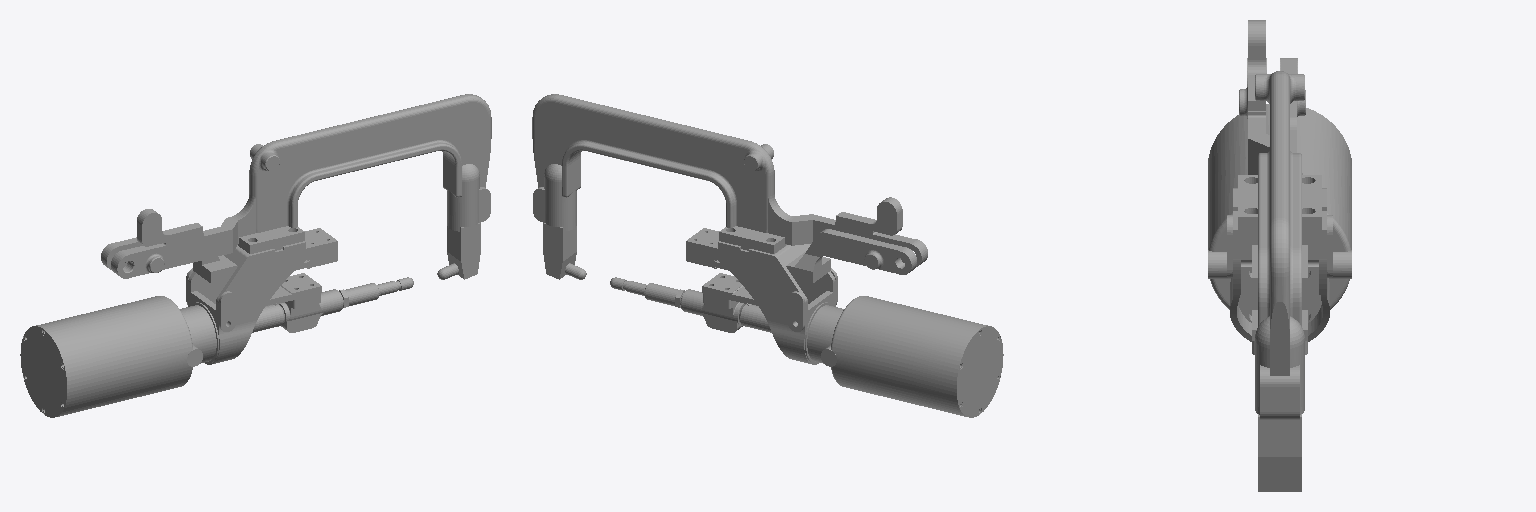
robot.urdf — robot:
<robot name="">
	<link name="base_link">
		<inertial>
			<origin rpy="0.00000 -0.00000 0.00000" xyz="0.00000 0.00000 0.00000" />
			<mass value="1.00000" />
			<inertia ixx="0.00999" ixy="0" ixz="0" iyy="0.01525" iyz="0" izz="0.01337" />
		</inertial>
		<visual>
			<origin rpy="0.00000 -0.00000 0.00000" xyz="0.00000 0.00000 0.00000" />
			<geometry>
				<mesh filename="rlbotics/envs/models/robots/kuka/kr10/meshes/kr10r1100sixx/visual/base_link.stl" scale="1.00000 1.00000 1.00000" />
			</geometry>
			<material name="0">
				<color rgba="0.05490 0.05490 0.06275 1.00000" />
			</material>
		</visual>
		<collision>
			<origin rpy="0.00000 -0.00000 0.00000" xyz="0.00000 0.00000 0.00000" />
			<geometry>
				<mesh filename="rlbotics/envs/models/robots/kuka/kr10/meshes/kr10r1100sixx/collision/base_link.stl" scale="1.00000 1.00000 1.00000" />
			</geometry>
		</collision>
	</link>
	<link name="link_1">
		<inertial>
			<origin rpy="0.00000 -0.00000 0.00000" xyz="0.00000 0.00000 0.00000" />
			<mass value="1.00000" />
			<inertia ixx="0.01294" ixy="0" ixz="0" iyy="0.01147" iyz="0" izz="0.01178" />
		</inertial>
		<visual>
			<origin rpy="0.00000 -0.00000 0.00000" xyz="0.00000 0.00000 0.00000" />
			<geometry>
				<mesh filename="rlbotics/envs/models/robots/kuka/kr10/meshes/kr10r1100sixx/visual/link_1.stl" scale="1.00000 1.00000 1.00000" />
			</geometry>
			<material name="1">
				<color rgba="0.96471 0.47059 0.15686 1.00000" />
			</material>
		</visual>
		<collision>
			<origin rpy="0.00000 -0.00000 0.00000" xyz="0.00000 0.00000 0.00000" />
			<geometry>
				<mesh filename="rlbotics/envs/models/robots/kuka/kr10/meshes/kr10r1100sixx/collision/link_1.stl" scale="1.00000 1.00000 1.00000" />
			</geometry>
		</collision>
	</link>
	<link name="link_2">
		<inertial>
			<origin rpy="0.00000 -0.00000 0.00000" xyz="0.00000 0.00000 0.00000" />
			<mass value="1.00000" />
			<inertia ixx="0.00832" ixy="0" ixz="0" iyy="0.04917" iyz="0" izz="0.05179" />
		</inertial>
		<visual>
			<origin rpy="0.00000 -0.00000 0.00000" xyz="0.00000 0.00000 0.00000" />
			<geometry>
				<mesh filename="rlbotics/envs/models/robots/kuka/kr10/meshes/kr10r1100sixx/visual/link_2.stl" scale="1.00000 1.00000 1.00000" />
			</geometry>
			<material name="2">
				<color rgba="0.96471 0.47059 0.15686 1.00000" />
			</material>
		</visual>
		<collision>
			<origin rpy="0.00000 -0.00000 0.00000" xyz="0.00000 0.00000 0.00000" />
			<geometry>
				<mesh filename="rlbotics/envs/models/robots/kuka/kr10/meshes/kr10r1100sixx/collision/link_2.stl" scale="1.00000 1.00000 1.00000" />
			</geometry>
		</collision>
	</link>
	<link name="link_3">
		<inertial>
			<origin rpy="0.00000 -0.00000 0.00000" xyz="0.00000 0.00000 0.00000" />
			<mass value="1.00000" />
			<inertia ixx="0.00421" ixy="0" ixz="0" iyy="0.00586" iyz="0" izz="0.00497" />
		</inertial>
		<visual>
			<origin rpy="0.00000 -0.00000 0.00000" xyz="0.00000 0.00000 0.00000" />
			<geometry>
				<mesh filename="rlbotics/envs/models/robots/kuka/kr10/meshes/kr10r1100sixx/visual/link_3.stl" scale="1.00000 1.00000 1.00000" />
			</geometry>
			<material name="3">
				<color rgba="0.96471 0.47059 0.15686 1.00000" />
			</material>
		</visual>
		<collision>
			<origin rpy="0.00000 -0.00000 0.00000" xyz="0.00000 0.00000 0.00000" />
			<geometry>
				<mesh filename="rlbotics/envs/models/robots/kuka/kr10/meshes/kr10r1100sixx/collision/link_3.stl" scale="1.00000 1.00000 1.00000" />
			</geometry>
		</collision>
	</link>
	<link name="link_4">
		<inertial>
			<origin rpy="0.00000 -0.00000 0.00000" xyz="0.00000 0.00000 0.00000" />
			<mass value="1.00000" />
			<inertia ixx="0.00319" ixy="0" ixz="0" iyy="0.01951" iyz="0" izz="0.01896" />
		</inertial>
		<visual>
			<origin rpy="0.00000 -0.00000 0.00000" xyz="0.00000 0.00000 0.00000" />
			<geometry>
				<mesh filename="rlbotics/envs/models/robots/kuka/kr10/meshes/kr10r1100sixx/visual/link_4.stl" scale="1.00000 1.00000 1.00000" />
			</geometry>
			<material name="4">
				<color rgba="0.96471 0.47059 0.15686 1.00000" />
			</material>
		</visual>
		<collision>
			<origin rpy="0.00000 -0.00000 0.00000" xyz="0.00000 0.00000 0.00000" />
			<geometry>
				<mesh filename="rlbotics/envs/models/robots/kuka/kr10/meshes/kr10r1100sixx/collision/link_4.stl" scale="1.00000 1.00000 1.00000" />
			</geometry>
		</collision>
	</link>
	<link name="link_5">
		<inertial>
			<origin rpy="0.00000 -0.00000 0.00000" xyz="0.00000 0.00000 0.00000" />
			<mass value="1.00000" />
			<inertia ixx="0.00120" ixy="0" ixz="0" iyy="0.00186" iyz="0" izz="0.00185" />
		</inertial>
		<visual>
			<origin rpy="0.00000 -0.00000 0.00000" xyz="0.00000 0.00000 0.00000" />
			<geometry>
				<mesh filename="rlbotics/envs/models/robots/kuka/kr10/meshes/kr10r1100sixx/visual/link_5.stl" scale="1.00000 1.00000 1.00000" />
			</geometry>
			<material name="5">
				<color rgba="0.96471 0.47059 0.15686 1.00000" />
			</material>
		</visual>
		<collision>
			<origin rpy="0.00000 -0.00000 0.00000" xyz="0.00000 0.00000 0.00000" />
			<geometry>
				<mesh filename="rlbotics/envs/models/robots/kuka/kr10/meshes/kr10r1100sixx/collision/link_5.stl" scale="1.00000 1.00000 1.00000" />
			</geometry>
		</collision>
	</link>
	<link name="link_6">
		<inertial>
			<origin rpy="0.00000 -0.00000 0.00000" xyz="0.00000 0.00000 0.00000" />
			<mass value="1.00000" />
			<inertia ixx="0.00035" ixy="0" ixz="0" iyy="0.00021" iyz="0" izz="0.00021" />
		</inertial>
		<visual>
			<origin rpy="0.00000 -0.00000 0.00000" xyz="0.00000 0.00000 0.00000" />
			<geometry>
				<mesh filename="rlbotics/envs/models/robots/kuka/kr10/meshes/kr10r1100sixx/visual/link_6.stl" scale="1.00000 1.00000 1.00000" />
			</geometry>
			<material name="6">
				<color rgba="0.50588 0.47059 0.38824 1.00000" />
			</material>
		</visual>
		<collision>
			<origin rpy="0.00000 -0.00000 0.00000" xyz="0.00000 0.00000 0.00000" />
			<geometry>
				<mesh filename="rlbotics/envs/models/robots/kuka/kr10/meshes/kr10r1100sixx/collision/link_6.stl" scale="1.00000 1.00000 1.00000" />
			</geometry>
		</collision>
	</link>
	<link name="tool0">
		<inertial>
			<origin rpy="0.00000 -0.00000 0.00000" xyz="0.00000 0.00000 0.00000" />
			<mass value="1.00000" />
			<inertia ixx="0.00000" ixy="0" ixz="0" iyy="0.00000" iyz="0" izz="0.00000" />
		</inertial>
	</link>
	<link name="base">
		<inertial>
			<origin rpy="0.00000 -0.00000 0.00000" xyz="0.00000 0.00000 0.00000" />
			<mass value="1.00000" />
			<inertia ixx="0.00000" ixy="0" ixz="0" iyy="0.00000" iyz="0" izz="0.00000" />
		</inertial>
	</link>
	<link name="root">
		<inertial>
			<origin rpy="0.00000 -0.00000 0.00000" xyz="0.50570 -0.00054 0.18351" />
			<mass value="2.00000" />
			<inertia ixx="0.02909" ixy="0" ixz="0" iyy="0.13991" iyz="0" izz="0.11897" />
		</inertial>
		<visual>
			<origin rpy="0.00000 -0.00000 0.00000" xyz="0.39949 0.00000 0.14487" />
			<geometry>
				<mesh filename="rlbotics/envs/models/end_effectors/welding/spot_welding_gun/meshes/stl/RFC-22-G01 v2.stl" scale="0.00116 0.00116 0.00116" />
			</geometry>
			<material name="7">
				<color rgba="0.67059 0.67059 0.67059 1.00000" />
			</material>
		</visual>
		<collision>
			<origin rpy="0.00000 -0.00000 0.00000" xyz="0.39946 -0.00043 0.14496" />
			<geometry>
				<mesh filename="rlbotics/envs/models/end_effectors/welding/spot_welding_gun/meshes/stl/RFC-22-G01 v2.001.stl" scale="0.78991 0.78991 0.78991" />
			</geometry>
		</collision>
	</link>
	<link name="ee_joint_arm">
		<inertial>
			<origin rpy="0.00000 -0.00000 0.00000" xyz="0.00000 0.00000 0.00000" />
			<mass value="0.00100" />
			<inertia ixx="0.00000" ixy="0" ixz="0" iyy="0.00000" iyz="0" izz="0.00000" />
		</inertial>
	</link>
	<link name="nozzle_tip">
		<inertial>
			<origin rpy="0.00000 -0.00000 0.00000" xyz="0.00000 0.00000 0.00000" />
			<mass value="0.00100" />
			<inertia ixx="0.00000" ixy="0" ixz="0" iyy="0.00000" iyz="0" izz="0.00000" />
		</inertial>
	</link>
	<joint name="joint_a1" type="revolute">
		<parent link="base_link" />
		<child link="link_1" />
		<dynamics damping="0.0" friction="0.0" />
		<origin rpy="0.00000 -0.00000 0.00000" xyz="0.00000 0.00000 0.40000" />
		<axis xyz="0.00000 0.00000 -1.00000" />
	<limit effort="0.0" lower="-2.9670597283903604" upper="2.9670597283903604" velocity="6.283185307179586" /></joint>
	<joint name="joint_a2" type="revolute">
		<parent link="link_1" />
		<child link="link_2" />
		<dynamics damping="0.0" friction="0.0" />
		<origin rpy="0.00000 -0.00000 0.00000" xyz="0.02500 0.00000 0.00000" />
		<axis xyz="0.00000 1.00000 0.00000" />
	<limit effort="0.0" lower="-3.3161255787892263" upper="0.7853981633974483" velocity="5.235987755982989" /></joint>
	<joint name="joint_a3" type="revolute">
		<parent link="link_2" />
		<child link="link_3" />
		<dynamics damping="0.0" friction="0.0" />
		<origin rpy="0.00000 -0.00000 0.00000" xyz="0.56000 0.00000 0.00000" />
		<axis xyz="0.00000 1.00000 0.00000" />
	<limit effort="0.0" lower="-2.0943951023931953" upper="2.722713633111154" velocity="6.283185307179586" /></joint>
	<joint name="joint_a4" type="revolute">
		<parent link="link_3" />
		<child link="link_4" />
		<dynamics damping="0.0" friction="0.0" />
		<origin rpy="0.00000 -0.00000 0.00000" xyz="0.00000 0.00000 0.03500" />
		<axis xyz="-1.00000 0.00000 0.00000" />
	<limit effort="0.0" lower="-3.2288591161895095" upper="3.2288591161895095" velocity="6.649704450098396" /></joint>
	<joint name="joint_a5" type="revolute">
		<parent link="link_4" />
		<child link="link_5" />
		<dynamics damping="0.0" friction="0.0" />
		<origin rpy="0.00000 -0.00000 0.00000" xyz="0.51500 0.00000 0.00000" />
		<axis xyz="0.00000 1.00000 0.00000" />
	<limit effort="0.0" lower="-2.0943951023931953" upper="2.0943951023931953" velocity="6.771877497737998" /></joint>
	<joint name="joint_a6" type="revolute">
		<parent link="link_5" />
		<child link="link_6" />
		<dynamics damping="0.0" friction="0.0" />
		<origin rpy="0.00000 -0.00000 0.00000" xyz="0.08000 0.00000 0.00000" />
		<axis xyz="-1.00000 0.00000 0.00000" />
	<limit effort="0.0" lower="-6.1086523819801535" upper="6.1086523819801535" velocity="10.733774899765127" /></joint>
	<joint name="joint_a6-tool0" type="fixed">
		<parent link="link_6" />
		<child link="tool0" />
		<dynamics damping="1.0" friction="0.0001" />
		<origin rpy="0.00000 1.57080 -0.00000" xyz="0.00000 0.00000 0.00000" />
		<axis xyz="0.00000 0.00000 0.00000" />
	</joint>
	<joint name="base_link-base" type="fixed">
		<parent link="base_link" />
		<child link="base" />
		<dynamics damping="1.0" friction="0.0001" />
		<origin rpy="0.00000 -0.00000 0.00000" xyz="0.00000 0.00000 0.00000" />
		<axis xyz="0.00000 0.00000 0.00000" />
	</joint>
	<joint name="joint_dummy1" type="fixed">
		<parent link="link_5" />
		<child link="root" />
		<dynamics damping="1.0" friction="0.0001" />
		<origin rpy="0.00000 0.00000 0.00000" xyz="0.00000 0.00000 0.00000" />
		<axis xyz="0.00000 0.00000 1.00000" />
	</joint>
	<joint name="ee_joint_arm" type="fixed">
		<parent link="root" />
		<child link="ee_joint_arm" />
		<dynamics damping="1.0" friction="0.0001" />
		<origin rpy="0.00000 1.57080 -0.00000" xyz="-0.00372 -0.00266 0.00071" />
		<axis xyz="0.00000 0.00000 0.00000" />
	</joint>
	<joint name="nozzle_tip" type="fixed">
		<parent link="root" />
		<child link="nozzle_tip" />
		<dynamics damping="1.0" friction="0.0001" />
		<origin rpy="0.00000 1.57080 -0.00000" xyz="0.67936 0.00000 0.00043" />
		<axis xyz="0.00000 0.00000 0.00000" />
	</joint>
</robot>

--- Render facts (derived) ---
The picture shows the robot from 3 angles, left to right: view 1: azimuth 30°, elevation 25°; view 2: azimuth 150°, elevation 25°; view 3: azimuth 270°, elevation 25°; orthographic projection.
Model robot with 12 links and 11 joints (6 revolute, 5 fixed), rooted at base_link, posed all joints at 0.
Visible links, largest first — view 1: root; view 2: root; view 3: root.
Boxes of the visible links, x1,y1,x2,y2 form: root: [20, 94, 491, 417]; root: [532, 94, 1003, 417]; root: [1208, 20, 1351, 491].
Size in the robot's own frame: 0.8271 by 0.1508 by 0.3828 metres.
1 mesh visuals loaded from 8 distinct referenced files (1 binary STL); not drawn: 7 (reference not matched to a file when rendering).